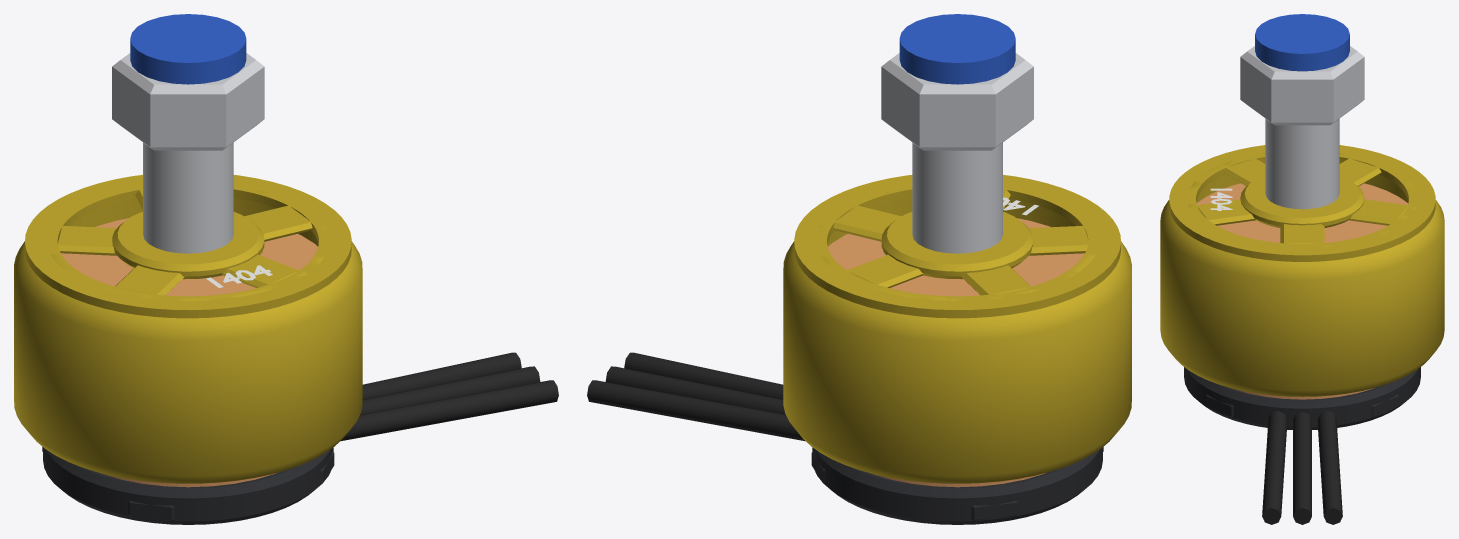
File: motor_m1404.glb
3 views of the same model, side by side, from view 1: azimuth 30°, elevation 25°; view 2: azimuth 150°, elevation 25°; view 3: azimuth 270°, elevation 25° (orthographic). The views are drawn at different scales.
Visible parts, largest first — view 1: motor_campana, motor_techo, motor_base, motor_tuerca, motor_cables, motor_eje, tuerca_nylon, techo_cobre; view 2: motor_campana, motor_techo, motor_base, motor_tuerca, motor_cables, motor_eje, tuerca_nylon, techo_cobre; view 3: motor_campana, motor_techo, motor_tuerca, motor_cables, motor_base, motor_eje, tuerca_nylon, techo_cobre, motor_bobinado.
Part boxes in pixels (bbox=[...]): motor_campana: bbox=[14, 188, 362, 483]; motor_techo: bbox=[25, 175, 351, 318]; motor_base: bbox=[42, 447, 334, 524]; motor_tuerca: bbox=[112, 53, 264, 150]; motor_cables: bbox=[340, 352, 558, 441]; motor_eje: bbox=[143, 142, 233, 253]; tuerca_nylon: bbox=[130, 14, 246, 84]; techo_cobre: bbox=[61, 218, 317, 296]; motor_campana: bbox=[783, 188, 1131, 483]; motor_techo: bbox=[794, 175, 1120, 318]; motor_base: bbox=[811, 447, 1103, 524]; motor_tuerca: bbox=[881, 53, 1033, 150]; motor_cables: bbox=[587, 352, 805, 441]; motor_eje: bbox=[912, 142, 1002, 253]; tuerca_nylon: bbox=[899, 14, 1015, 84]; techo_cobre: bbox=[828, 218, 1084, 296]; motor_campana: bbox=[1160, 153, 1444, 396]; motor_techo: bbox=[1169, 145, 1435, 261]; motor_tuerca: bbox=[1240, 46, 1364, 125]; motor_cables: bbox=[1262, 410, 1342, 524]; motor_base: bbox=[1184, 367, 1420, 429]; motor_eje: bbox=[1265, 118, 1339, 209]; tuerca_nylon: bbox=[1255, 14, 1349, 71]; techo_cobre: bbox=[1196, 183, 1408, 242]; motor_bobinado: bbox=[1231, 388, 1373, 399].
Size of the model in its own units: 0.0316 by 0.0263 by 0.0192.
